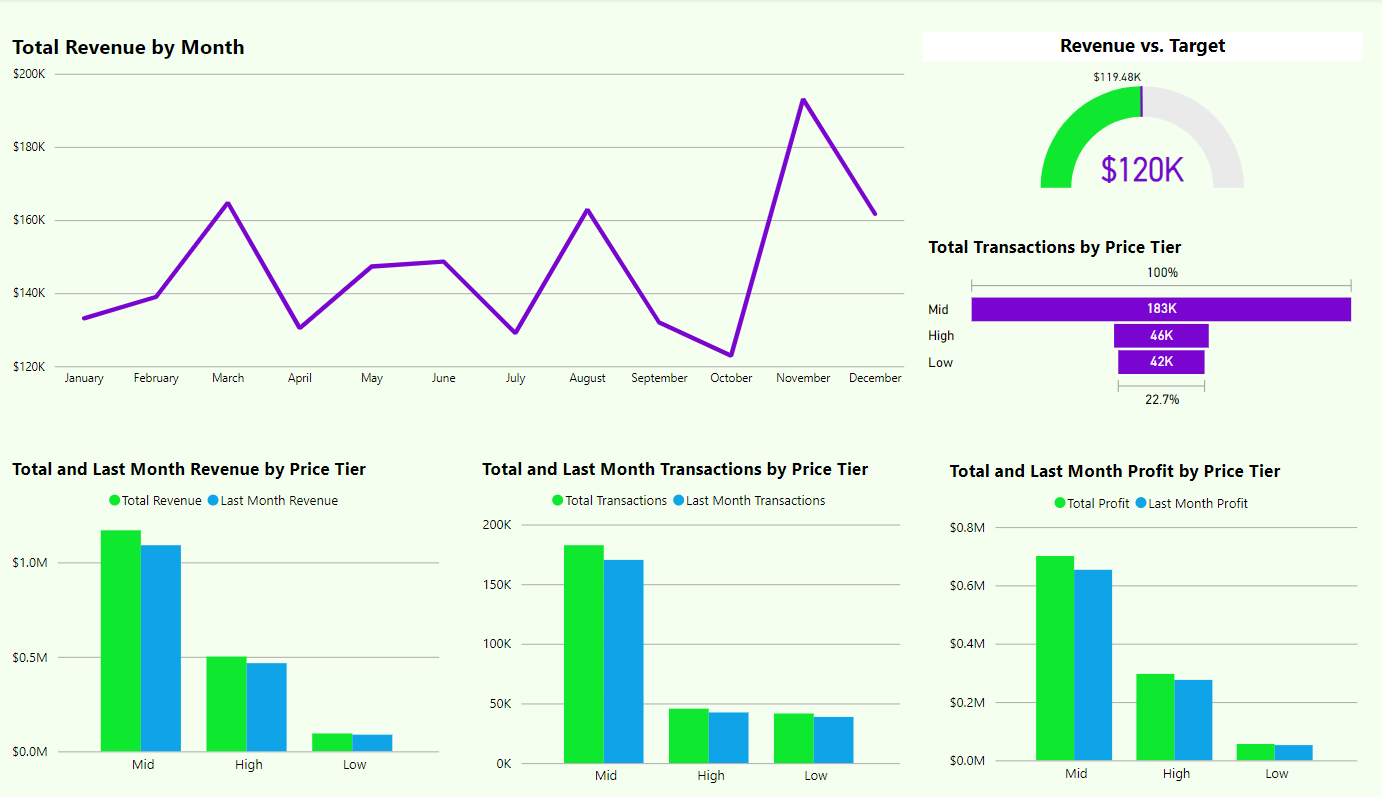

Layout of this report page (visuals, bound fields, positions):
{"tool":"powerbi","page":{"name":"Products","canvas":[1280,720],"ordinal":2},"visuals":[{"type":"clusteredColumnChart","title":"Total and Last Month Revenue by Price Tier","fields":{"Y":["Transaction_Data.Total Revenue","Transaction_Data.Last Month Revenue"],"Category":["Products.Price_Tier"]},"box":[12,397.9,402.7,302],"z":0},{"type":"clusteredColumnChart","title":"Total and Last Month Transactions by Price Tier","fields":{"Category":["Products.Price_Tier"],"Y":["Transaction_Data.Total Transactions","Transaction_Data.Last Month Transactions"]},"box":[443.4,397.9,394.3,312.8],"z":1000},{"type":"clusteredColumnChart","title":"Total and Last Month Profit by Price Tier","fields":{"Category":["Products.Price_Tier"],"Y":["Transaction_Data.Total Profit","Transaction_Data.Last Month Profit"]},"box":[872.5,400.3,384.7,308],"z":2000},{"type":"lineChart","fields":{"Y":["Transaction_Data.Total Revenue"],"Category":["Calendar.Start of Week.Variation.Date Hierarchy.Year","Calendar.Start of Week.Variation.Date Hierarchy.Quarter","Calendar.Start of Week.Variation.Date Hierarchy.Month","Calendar.Start of Week.Variation.Date Hierarchy.Day"]},"box":[12,8.4,831.8,335.6],"z":3000},{"type":"gauge","title":"Revenue vs. Target","fields":{"Y":["Transaction_Data.Total Revenue"],"TargetValue":["Transaction_Data.Revenue Target"]},"box":[853.3,8.4,403.9,148.6],"z":4000},{"type":"funnel","title":"Total Transactions by Price Tier","fields":{"Category":["Products.Price_Tier"],"Y":["Transaction_Data.Total Transactions"]},"box":[853.3,194.2,403.9,165.4],"z":5000}]}

Visuals, with their boxes in screenshot pixels (x1, y1, x2, y2), scaled from the page's 1280x720 canvas onto the 1382x797 screenshot:
"Total and Last Month Revenue by Price Tier" clusteredColumnChart: bbox=(13, 440, 448, 775)
"Total and Last Month Transactions by Price Tier" clusteredColumnChart: bbox=(479, 440, 904, 787)
"Total and Last Month Profit by Price Tier" clusteredColumnChart: bbox=(942, 443, 1357, 784)
lineChart - Transaction_Data.Total Revenue x Calendar.Start of Week.Variation.Date Hierarchy.Year: bbox=(13, 9, 911, 381)
"Revenue vs. Target" gauge: bbox=(921, 9, 1357, 174)
"Total Transactions by Price Tier" funnel: bbox=(921, 215, 1357, 398)
